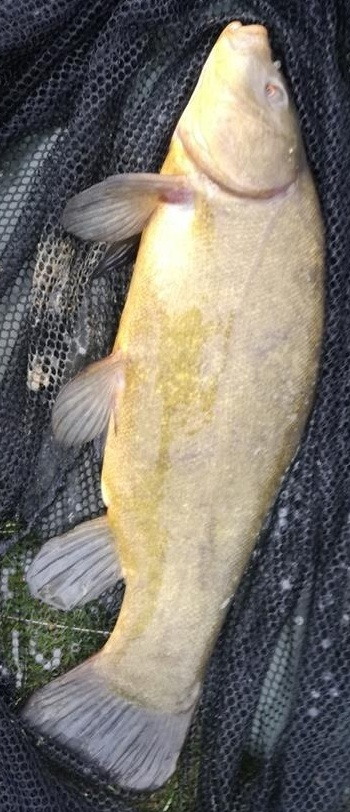Tinca tinca: (20, 20, 330, 792)
